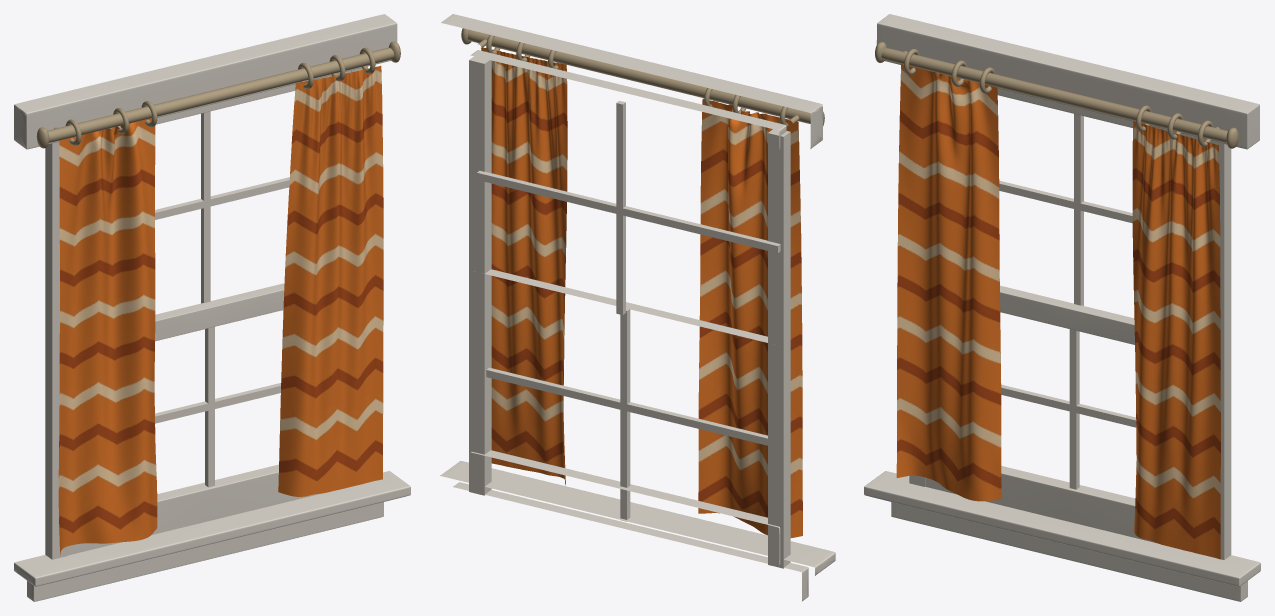
3 views of the same model, side by side, from view 1: azimuth 30°, elevation 25°; view 2: azimuth 150°, elevation 25°; view 3: azimuth 330°, elevation 25° (orthographic).
Parts seen in each view (by area): view 1: Curtain_1_lambert1_0, Curtain_2_lambert1_0, Window_Frame1_lambert1_0, Window_Frame10_lambert1_0, Window_Frame8_lambert1_0, Window_Frame11_lambert1_0, Window_Frame4_lambert1_0, Rod_lambert1_0, Window_Frame_lambert1_0, Window_Frame3_lambert1_0, Window_Frame5_lambert1_0, Window_Frame2_lambert1_0 (+2 smaller); view 2: Curtain_2_lambert1_0, Curtain_1_lambert1_0, Window_Frame8_lambert1_0, Window_Frame9_lambert1_0, Window_Frame10_lambert1_0, Window_Frame1_lambert1_0, Rod_lambert1_0, Window_Frame2_lambert1_0, Window_Frame6_lambert1_0, Window_Frame7_lambert1_0, Window_Frame11_lambert1_0, Window_Frame4_lambert1_0 (+3 smaller); view 3: Curtain_2_lambert1_0, Curtain_1_lambert1_0, Window_Frame1_lambert1_0, Window_Frame10_lambert1_0, Window_Frame4_lambert1_0, Window_Frame11_lambert1_0, Window_Frame9_lambert1_0, Rod_lambert1_0, Window_Frame_lambert1_0, Window_Frame3_lambert1_0, Window_Frame5_lambert1_0, Window_Frame6_lambert1_0 (+2 smaller).
Boxes of the visible parts, <box> form: Curtain_1_lambert1_0: <box>278,65,383,496</box>; Curtain_2_lambert1_0: <box>58,118,157,555</box>; Window_Frame1_lambert1_0: <box>14,14,397,149</box>; Window_Frame10_lambert1_0: <box>14,471,410,586</box>; Window_Frame8_lambert1_0: <box>45,142,67,559</box>; Window_Frame11_lambert1_0: <box>27,502,383,601</box>; Window_Frame4_lambert1_0: <box>68,464,320,555</box>; Rod_lambert1_0: <box>47,47,394,142</box>; Window_Frame_lambert1_0: <box>155,283,284,341</box>; Window_Frame3_lambert1_0: <box>201,111,210,303</box>; Window_Frame5_lambert1_0: <box>205,327,214,487</box>; Window_Frame2_lambert1_0: <box>155,177,289,219</box>; Curtain_2_lambert1_0: <box>698,98,802,537</box>; Curtain_1_lambert1_0: <box>481,47,567,485</box>; Window_Frame8_lambert1_0: <box>768,129,790,568</box>; Window_Frame9_lambert1_0: <box>469,56,491,495</box>; Window_Frame10_lambert1_0: <box>440,461,835,575</box>; Window_Frame1_lambert1_0: <box>441,14,822,148</box>; Rod_lambert1_0: <box>468,30,810,123</box>; Window_Frame2_lambert1_0: <box>477,170,780,253</box>; Window_Frame6_lambert1_0: <box>486,367,767,445</box>; Window_Frame7_lambert1_0: <box>470,50,786,149</box>; Window_Frame11_lambert1_0: <box>453,482,808,601</box>; Window_Frame4_lambert1_0: <box>471,450,780,565</box>; Curtain_2_lambert1_0: <box>896,64,1001,501</box>; Curtain_1_lambert1_0: <box>1132,121,1220,559</box>; Window_Frame1_lambert1_0: <box>876,14,1259,149</box>; Window_Frame10_lambert1_0: <box>864,471,1260,586</box>; Window_Frame4_lambert1_0: <box>925,466,1157,543</box>; Window_Frame11_lambert1_0: <box>891,502,1247,601</box>; Window_Frame9_lambert1_0: <box>1209,141,1231,559</box>; Rod_lambert1_0: <box>881,48,1227,142</box>; Window_Frame_lambert1_0: <box>1000,285,1134,344</box>; Window_Frame3_lambert1_0: <box>1074,114,1083,305</box>; Window_Frame5_lambert1_0: <box>1069,329,1079,489</box>; Window_Frame6_lambert1_0: <box>1001,384,1136,427</box>.
Bounding box in the file's own units: 0.7967 × 1 × 0.0943.
3 materials, 1 textured.
